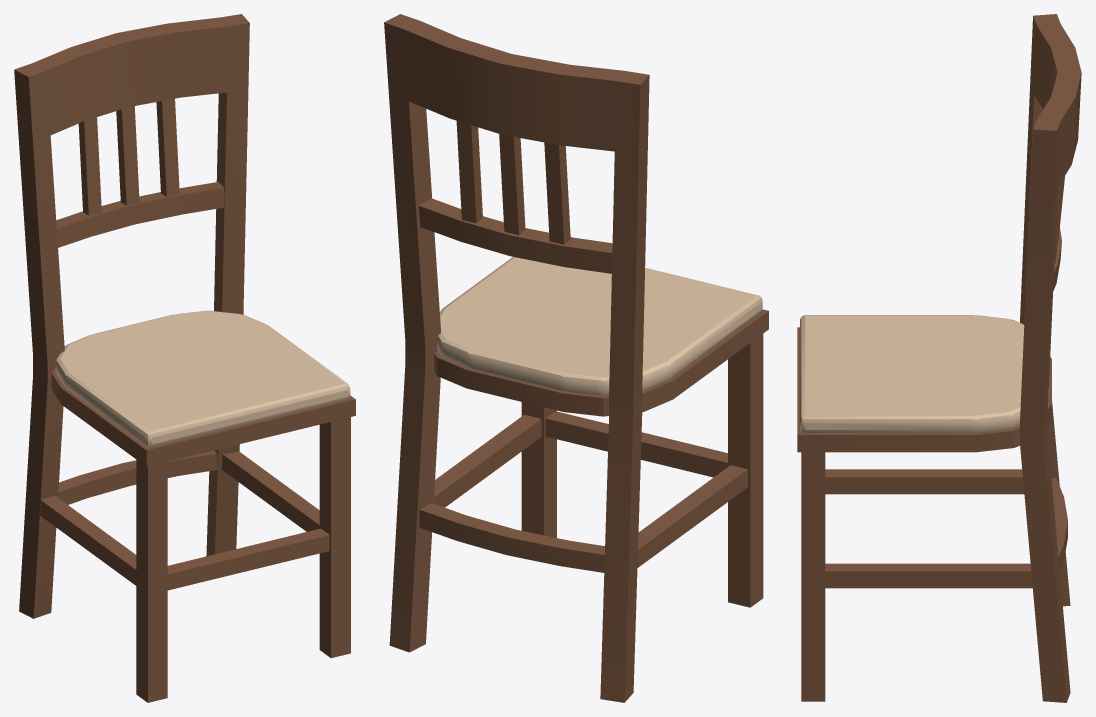
Rendered from Chair_05_C3.fbx.
3 views of the same model, side by side, from view 1: azimuth 30°, elevation 25°; view 2: azimuth 150°, elevation 25°; view 3: azimuth 270°, elevation 25° (orthographic). The views are drawn at different scales.
Parts seen in each view (by area): view 1: Chair_05_C3; view 2: Chair_05_C3; view 3: Chair_05_C3.
Part boxes in pixels (bbox=[...]): Chair_05_C3: bbox=[14, 14, 355, 702]; Chair_05_C3: bbox=[384, 14, 768, 702]; Chair_05_C3: bbox=[797, 14, 1081, 702].
Size of the model in its own units: 43.51 by 100 by 44.67.
